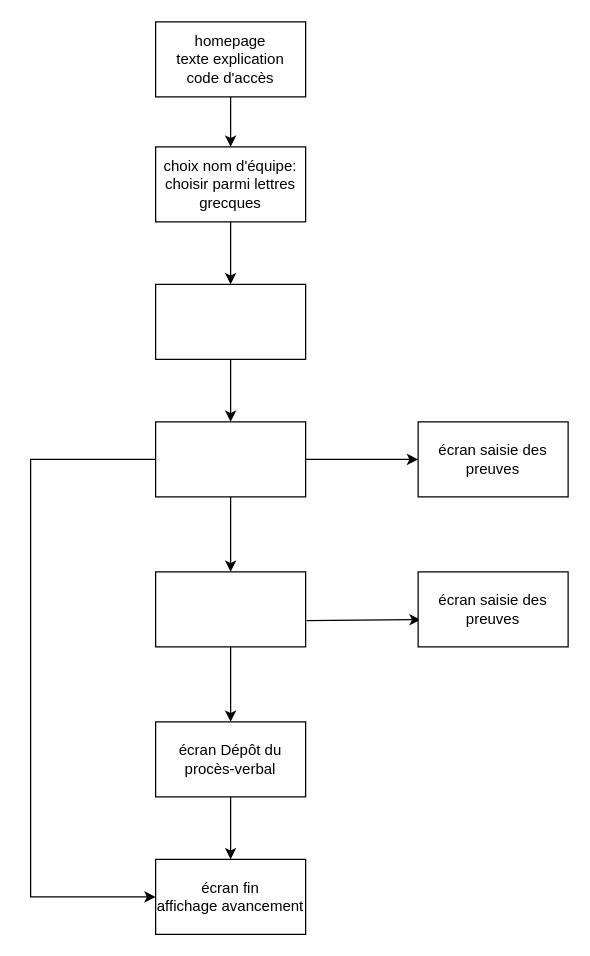
Some shapes in this 590 by 956 pixel diagram are drawn without their labels. The shapes that lost their labels are listed below. From the top down, each one's centre as x and y in pixels, then its label:
the point at 230,321: écran saisine juge fichiers captures a télécharger
the point at 230,459: écran réquisitions
the point at 230,609: écran Phase 2 : supplément d'information
